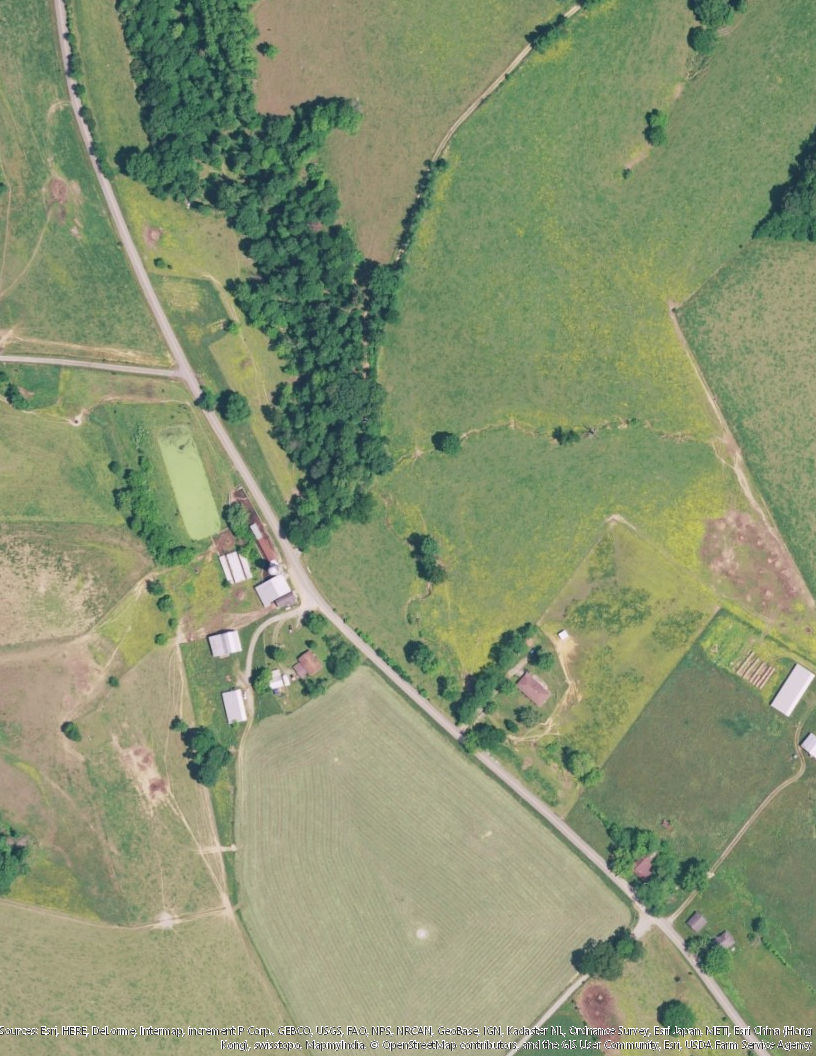cafo: (254, 568, 296, 606), (207, 625, 252, 659), (219, 685, 251, 727)
